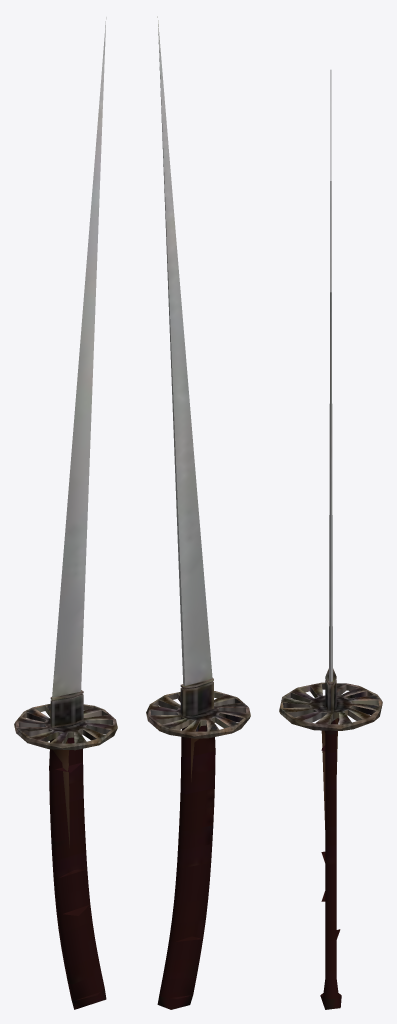
File: design-antique-katana-01.glb
The picture shows the model from 3 angles, left to right: view 1: azimuth 30°, elevation 25°; view 2: azimuth 210°, elevation 25°; view 3: azimuth 270°, elevation 25°; orthographic projection.
Parts seen in each view (by area): view 1: antique_katana_01; view 2: antique_katana_01; view 3: antique_katana_01.
Part boxes in pixels (<box>): antique_katana_01: <box>14,17,117,1009</box>; antique_katana_01: <box>146,16,250,1009</box>; antique_katana_01: <box>279,70,382,1009</box>.
Bounding box in the file's own units: 0.0919 × 0.9806 × 0.0919.
Materials: 1 (1 with a texture image).
